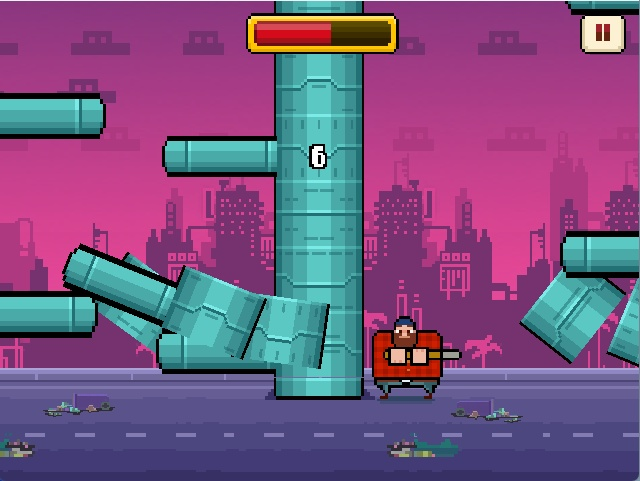left_obs: (156, 130, 284, 183)
timberman: (367, 301, 465, 405)
